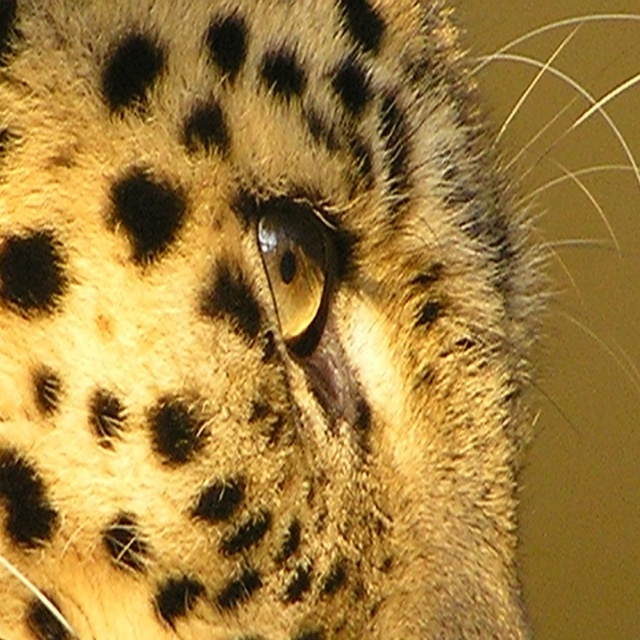Cheetah: (0, 0, 638, 639)
